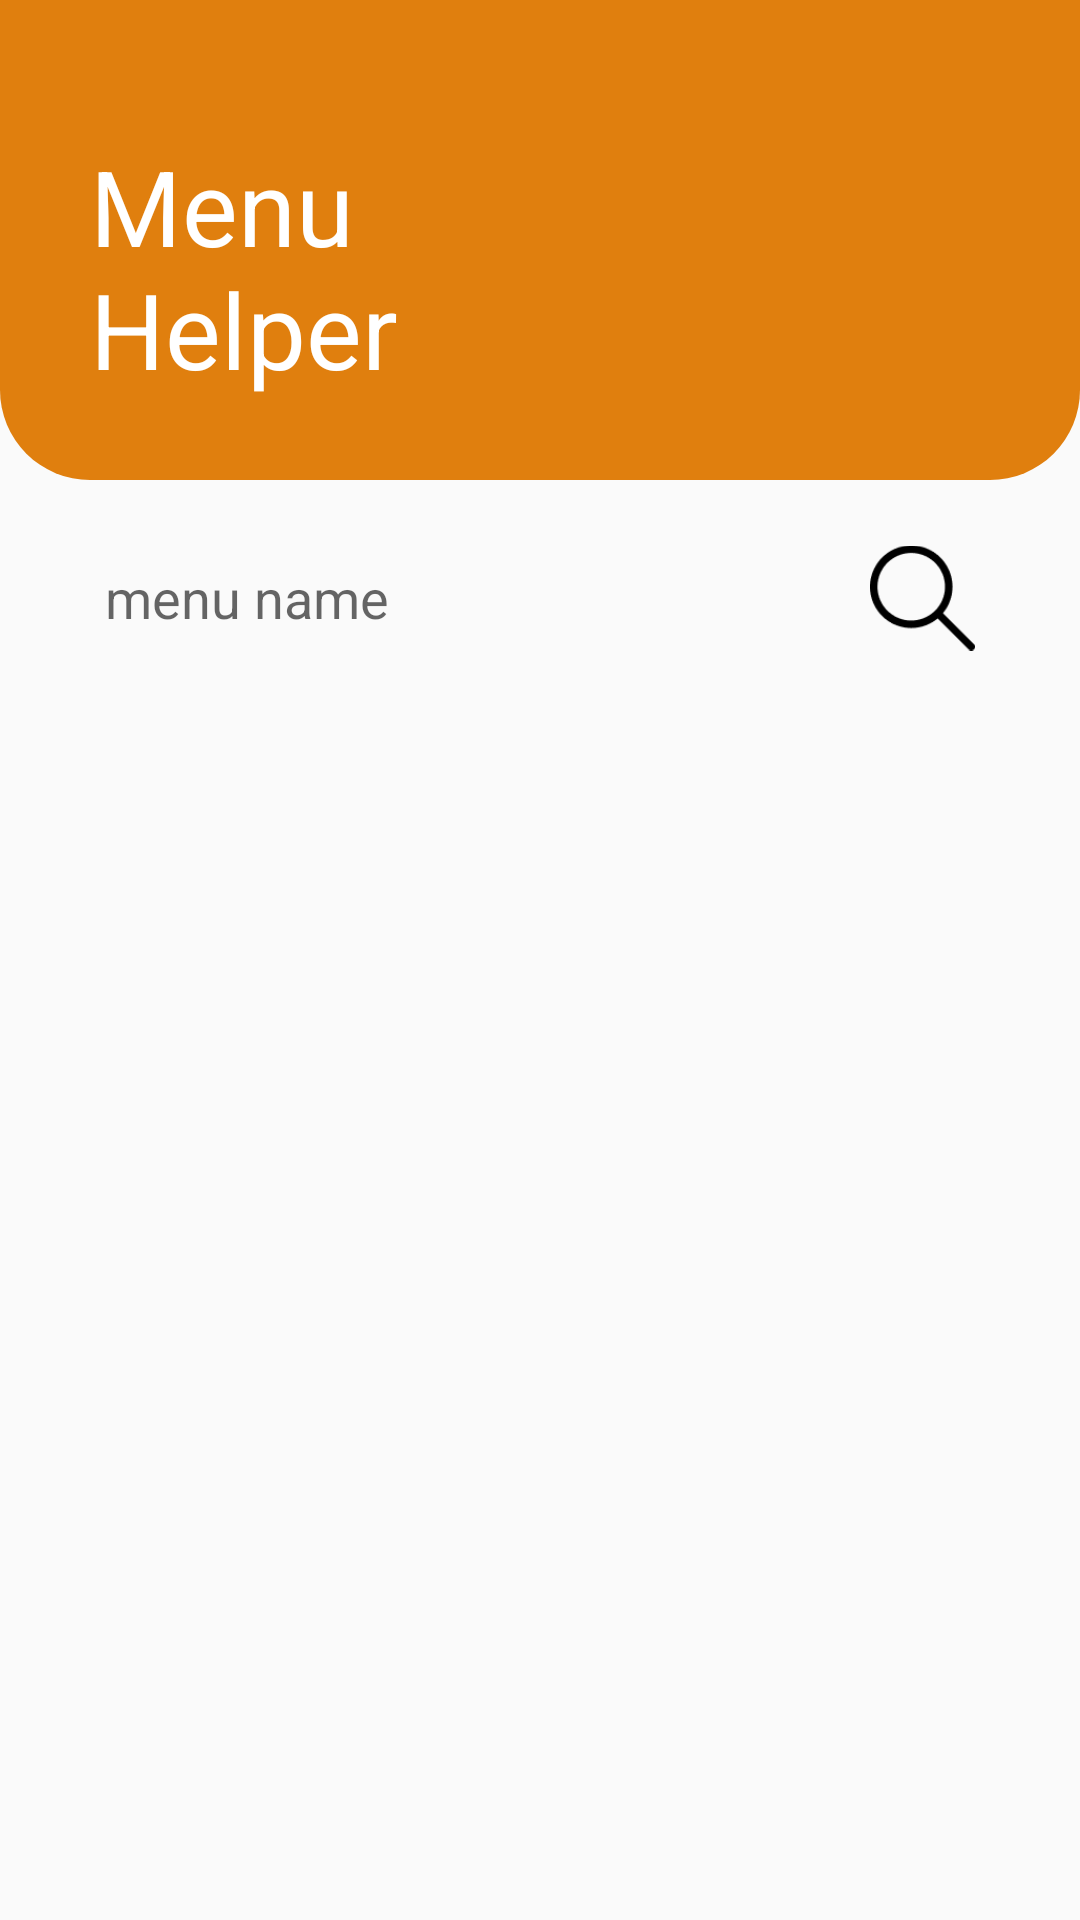

Icons on this 1080w x 1920h Android screen, each with its box as (x1, y1, x2, y2):
search: (870, 546, 975, 651)
